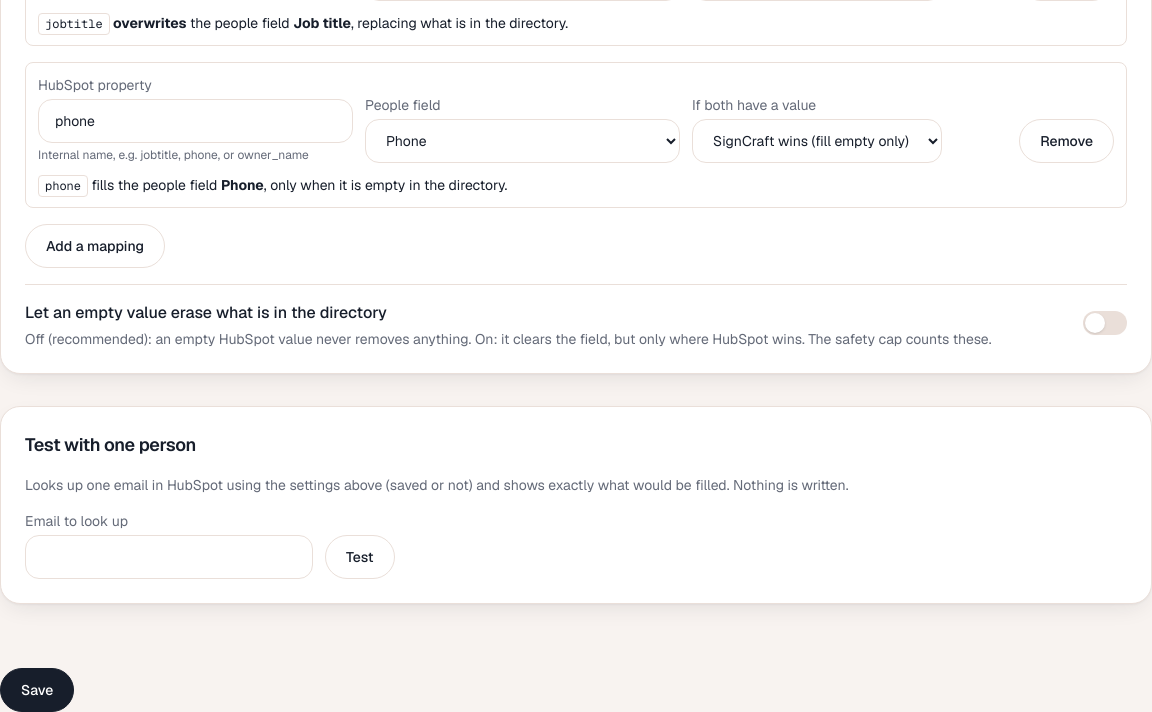
Test: rules and mapping › the test button sends the unsaved mapping and lists the mapped values
This screenshot has width=1152, height=712.
(page scrolled)
Expected: the element with test id "sentence-0" is shown, [38,13,568,35]
Type "ada@acme.com" into the field labelled "Email to look up" at (169, 557), box [25,535,313,579]
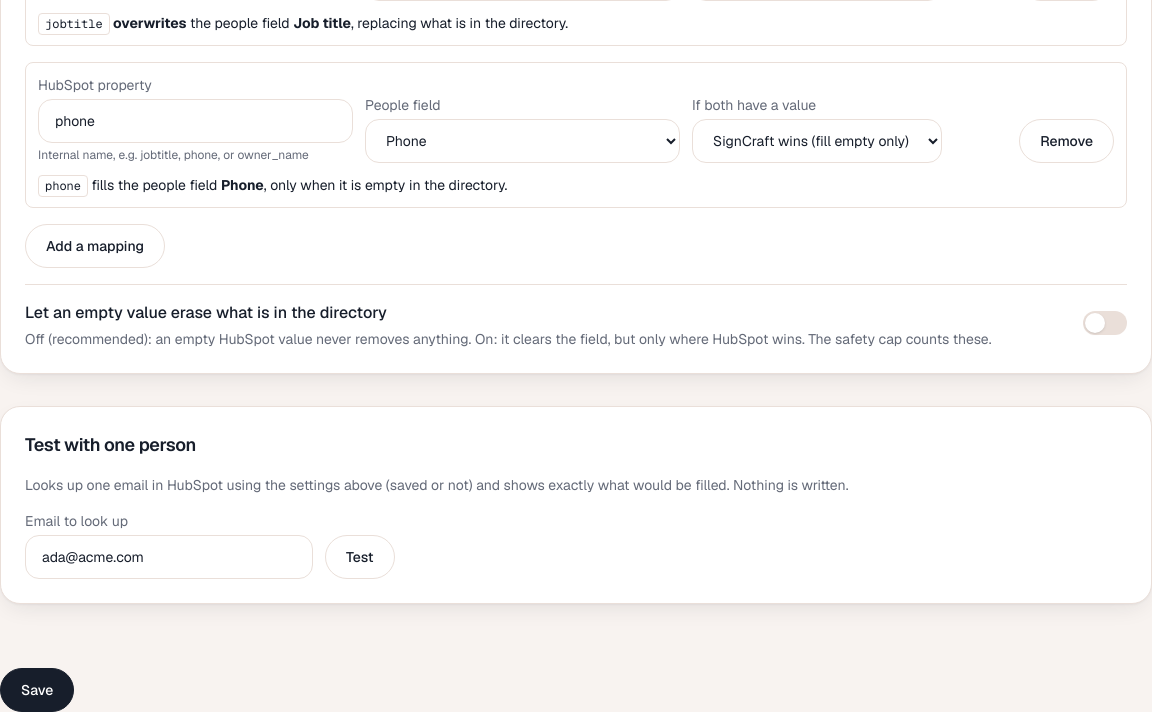
Click the button "Test" at (360, 557), box [325,535,395,579]
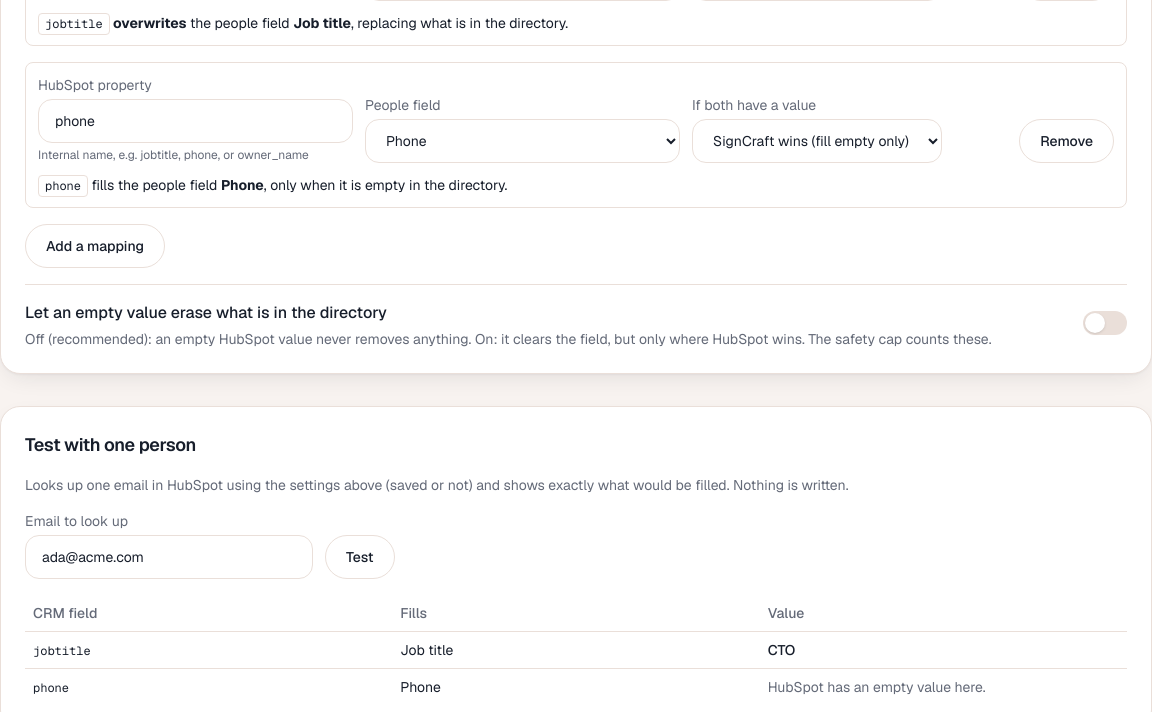
Expected: the text "CTO" is shown, [768,641,795,659]
Expected: the text "HubSpot has an empty value here." is shown, [768,678,986,696]
